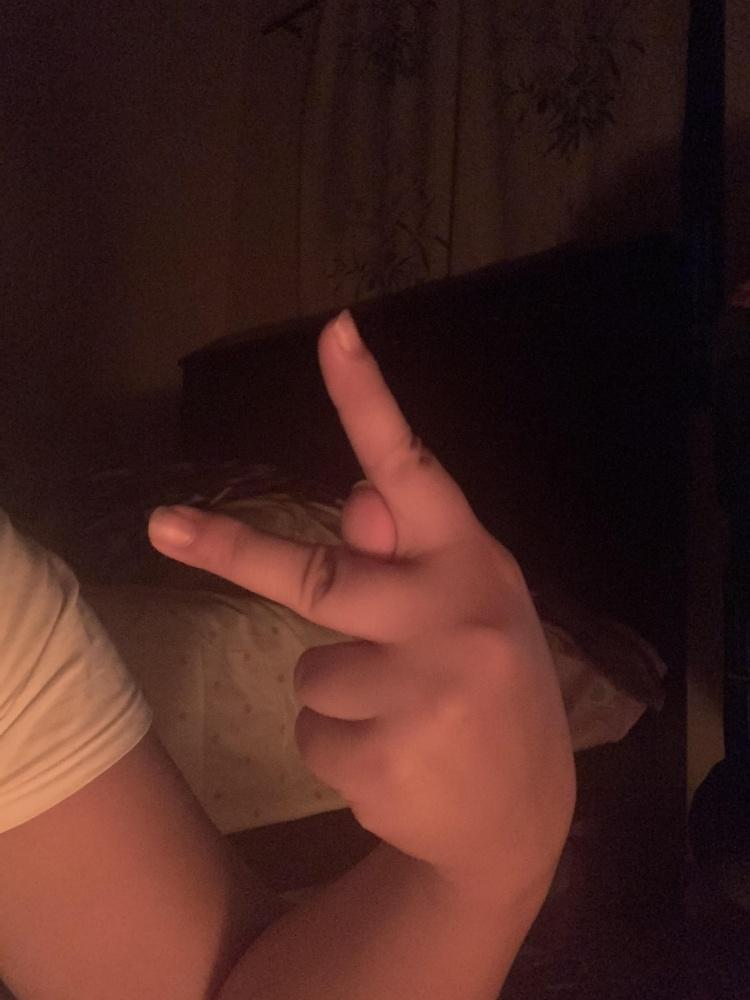k: (145, 303, 582, 873)
